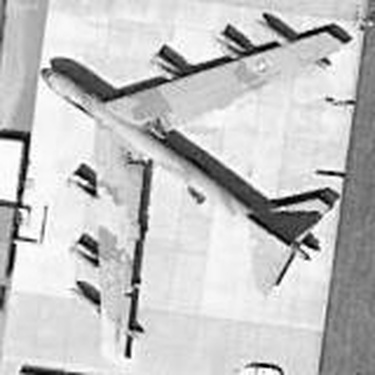airplane: (26, 20, 350, 365)
